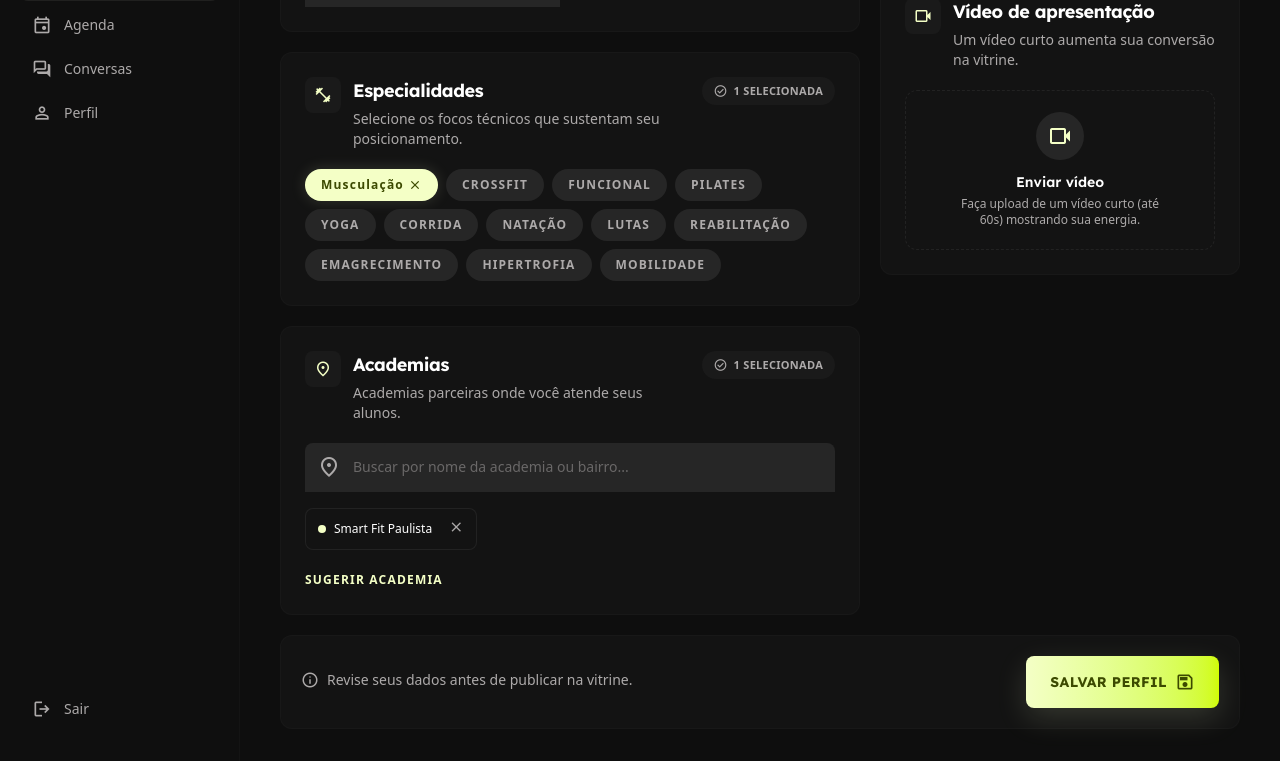
Test: CoachProfilePage › bloqueia o salvamento quando nenhuma academia está selecionada
The image size is (1280, 761).
(page scrolled)
Click the button named "Remover Smart Fit Paulista" at {"x": 456, "y": 528}, box [448,516,464,540]
(page scrolled)
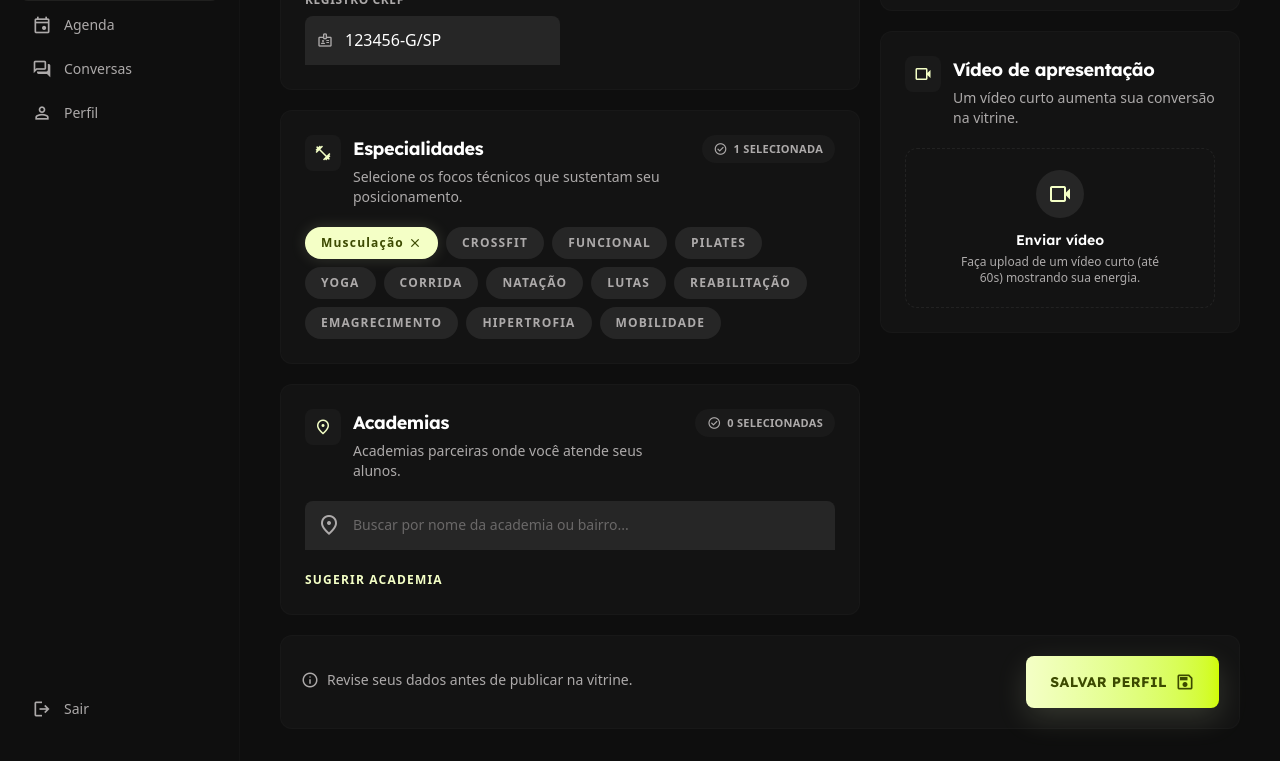
Click the button "SALVAR PERFIL" at {"x": 1123, "y": 682}, box [1026,656,1219,708]
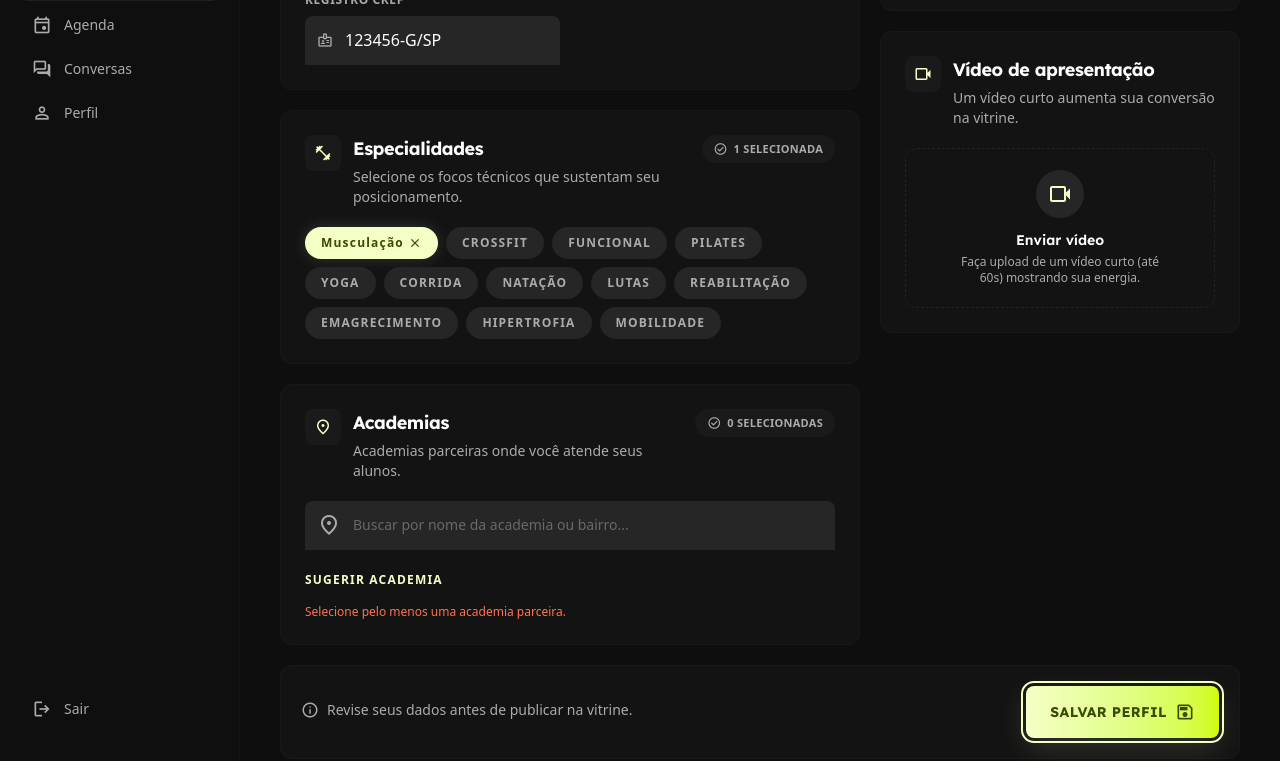
Check: the text "Selecione pelo menos uma academia parceira." is shown, box [305,602,566,620]
